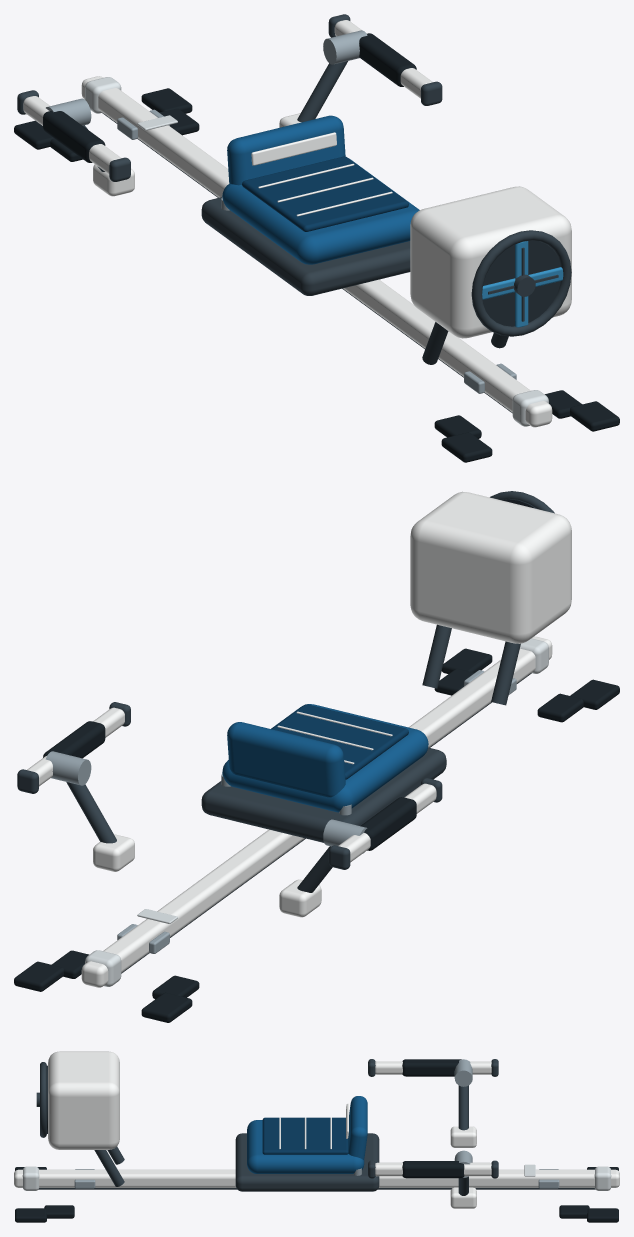
File: asset.glb
The picture shows the model from 3 angles, top to bottom: view 1: azimuth 30°, elevation 25°; view 2: azimuth 150°, elevation 25°; view 3: azimuth 270°, elevation 25°; orthographic projection. The views are drawn at different scales.
Parts seen in each view (by area): view 1: RowingExerciseMachine; view 2: RowingExerciseMachine; view 3: RowingExerciseMachine.
Part boxes in pixels (x1=…): RowingExerciseMachine: x1=14, y1=14, x2=619, y2=462; RowingExerciseMachine: x1=14, y1=491, x2=619, y2=1022; RowingExerciseMachine: x1=14, y1=1051, x2=619, y2=1222.
Size of the model in its own units: 2.7 by 1.55 by 6.4.
